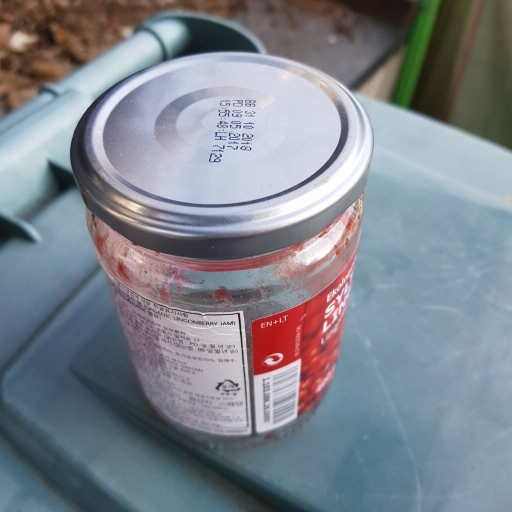Glass_5: (55, 44, 380, 447)
